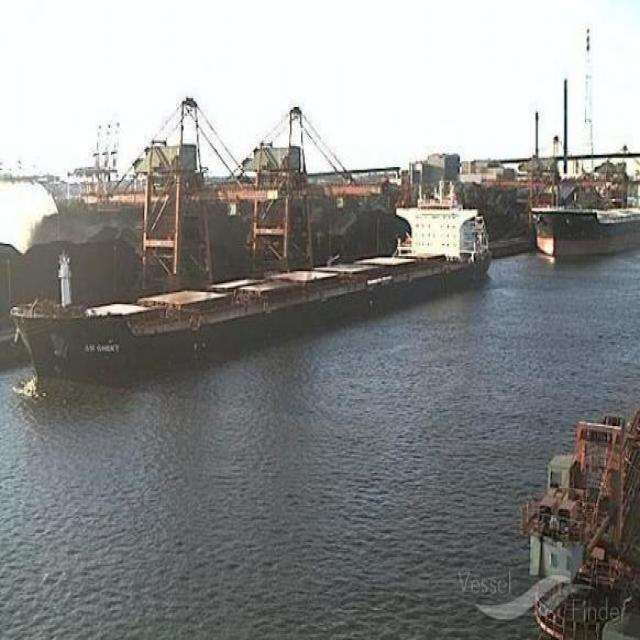OCR: (74, 330, 128, 354)
